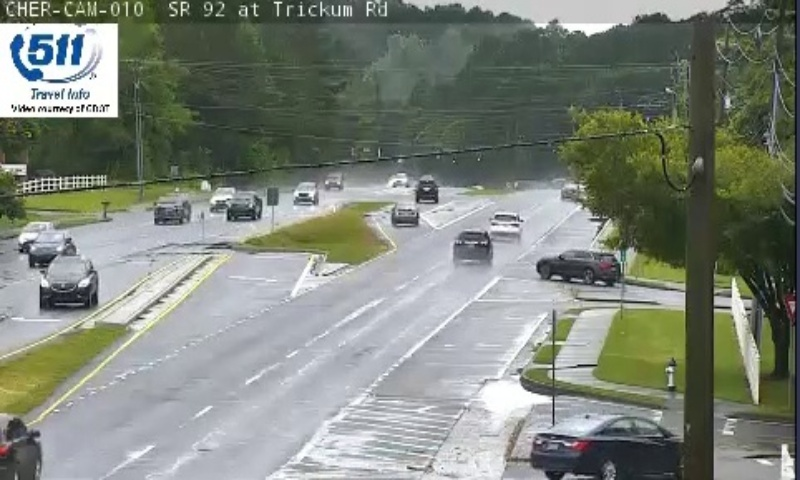car: (453, 229, 491, 261), (487, 211, 521, 238), (393, 203, 418, 225)
